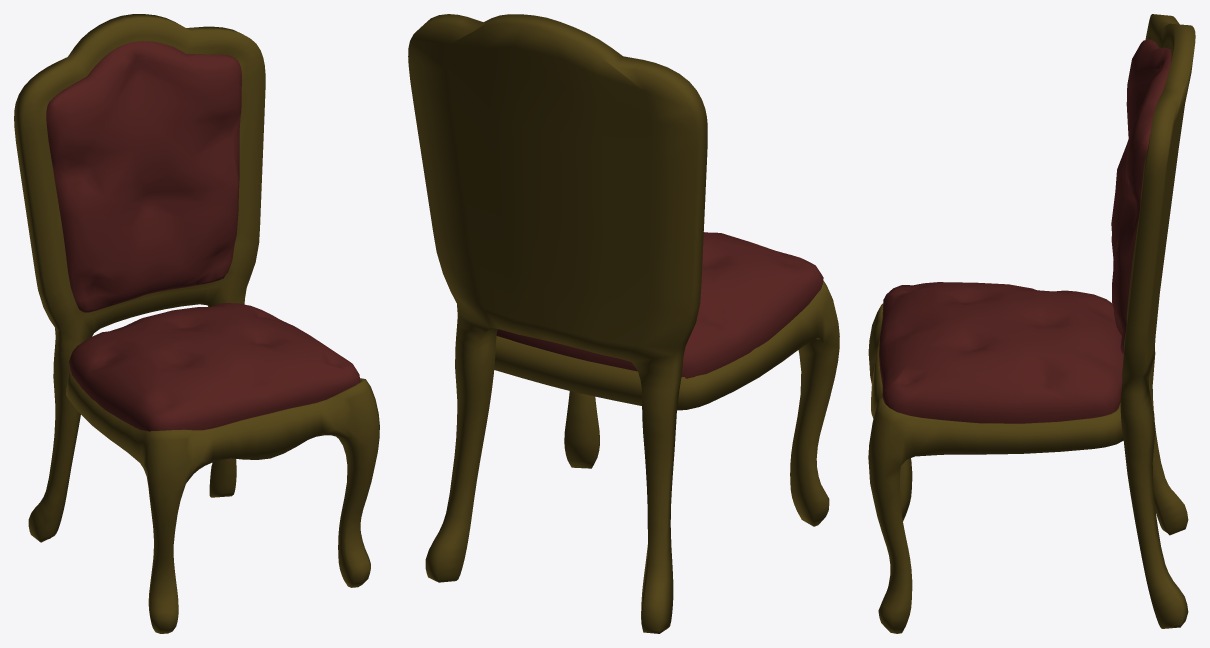
The model's file is OrnatedChair.fbx.
3 views of the same model, side by side, from view 1: azimuth 30°, elevation 25°; view 2: azimuth 150°, elevation 25°; view 3: azimuth 270°, elevation 25° (orthographic). The views are drawn at different scales.
Parts seen in each view (by area): view 1: Chair; view 2: Chair; view 3: Chair.
Part boxes in pixels (left/top/right/bottom): Chair: left=14, top=14, right=379, bottom=633; Chair: left=408, top=14, right=839, bottom=633; Chair: left=868, top=14, right=1195, bottom=633.
Size of the model in its own units: 0.7786 by 1.52 by 0.8291.
